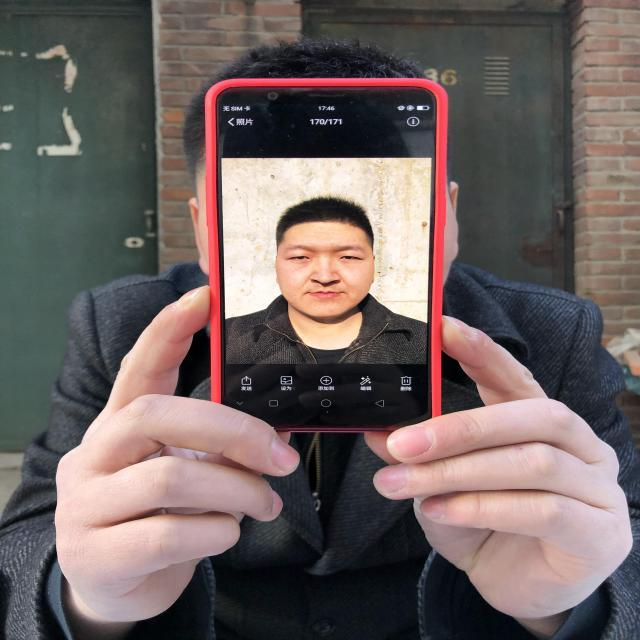bottle: (201, 72, 458, 445)
